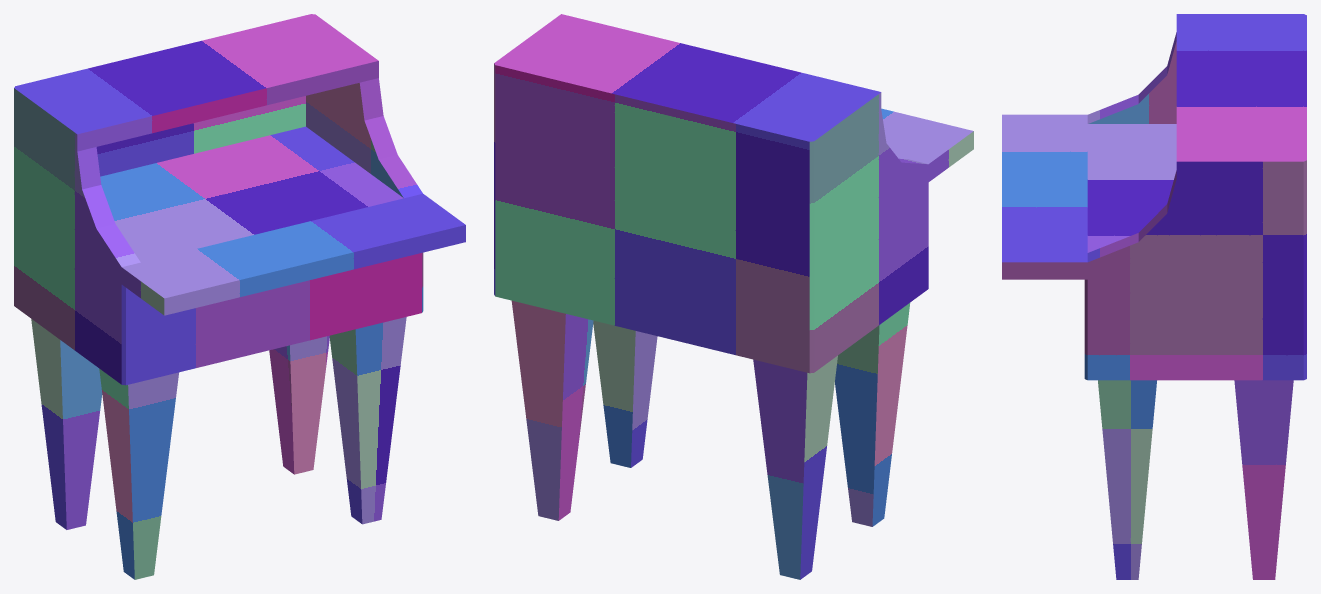
The model's file is rmk_grn_desk_jwl.dae.
The picture shows the model from 3 angles, left to right: view 1: azimuth 30°, elevation 25°; view 2: azimuth 150°, elevation 25°; view 3: azimuth 270°, elevation 25°; orthographic projection. The views are drawn at different scales.
Visible parts, largest first — view 1: rmk_grn_desk_jwl; view 2: rmk_grn_desk_jwl; view 3: rmk_grn_desk_jwl.
Boxes of the visible parts, x1,y1,x2,y2 form: rmk_grn_desk_jwl: [14, 14, 465, 579]; rmk_grn_desk_jwl: [494, 14, 973, 579]; rmk_grn_desk_jwl: [1002, 14, 1306, 579].
Bounding box in the file's own units: 27.5 × 37.5 × 24.
1 material, 1 textured.
